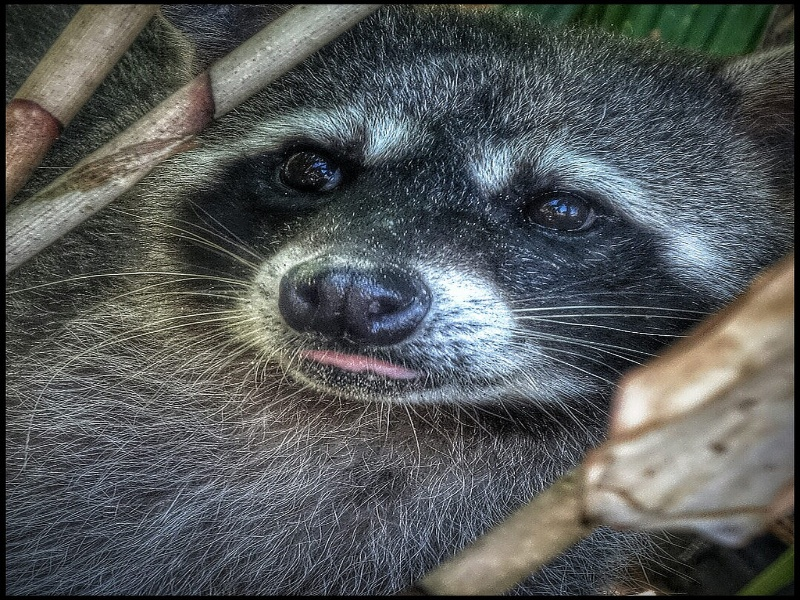raccoon: (31, 18, 766, 590)
